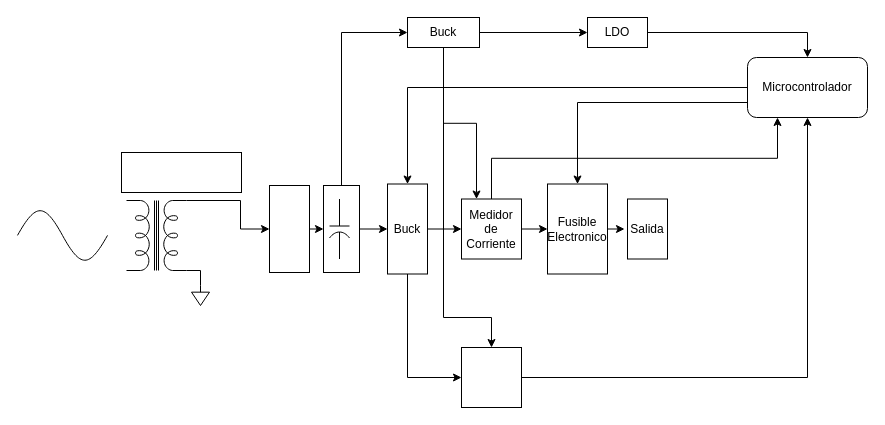
The diagram is 885 pixels wide and 425 high, and some of its shapes have lost their labels. Here are the shapes that lost their labels. From the top down, the box of each, then its label:
(120, 152, 242, 192): Transformador Sal -> 24VAC
(268, 184, 310, 272): Puente de Diodos Simple
(460, 346, 522, 408): Medidor de Voltaje
